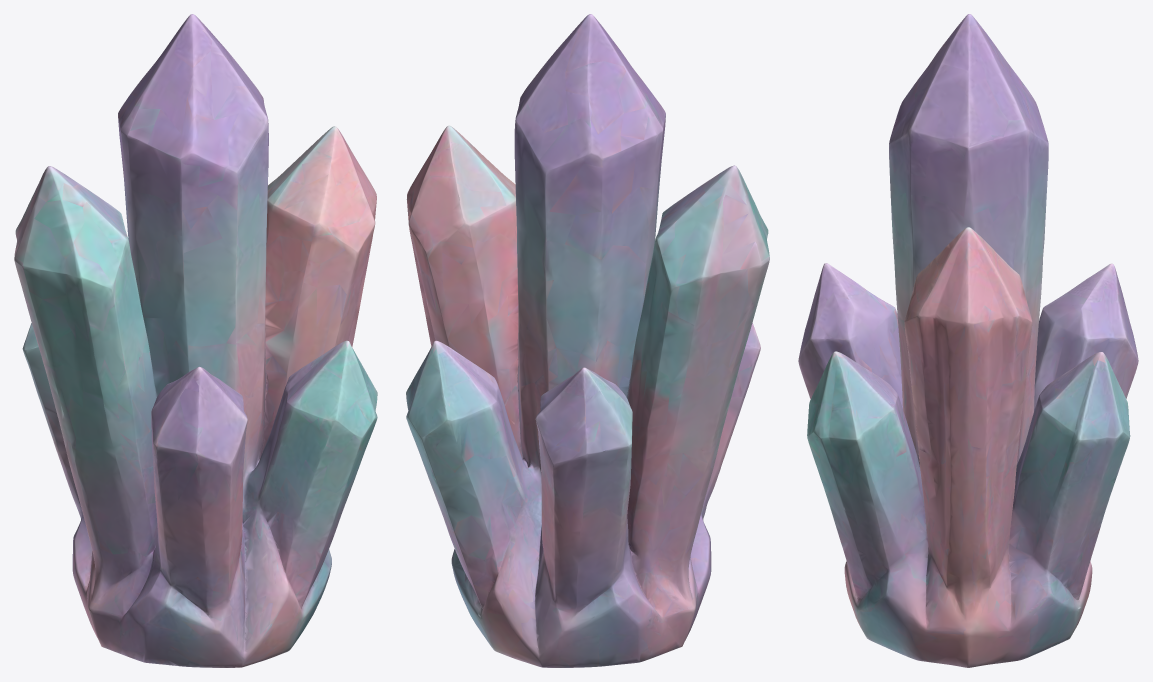
3 views of the same model, side by side, from view 1: azimuth 30°, elevation 25°; view 2: azimuth 150°, elevation 25°; view 3: azimuth 270°, elevation 25° (orthographic).
Size of the model in its own units: 1.17 by 1.9 by 0.9725.
1 material, 1 textured.
